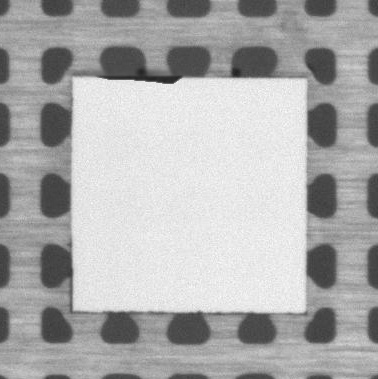DIE_BROKEN: (107, 70, 185, 86)
